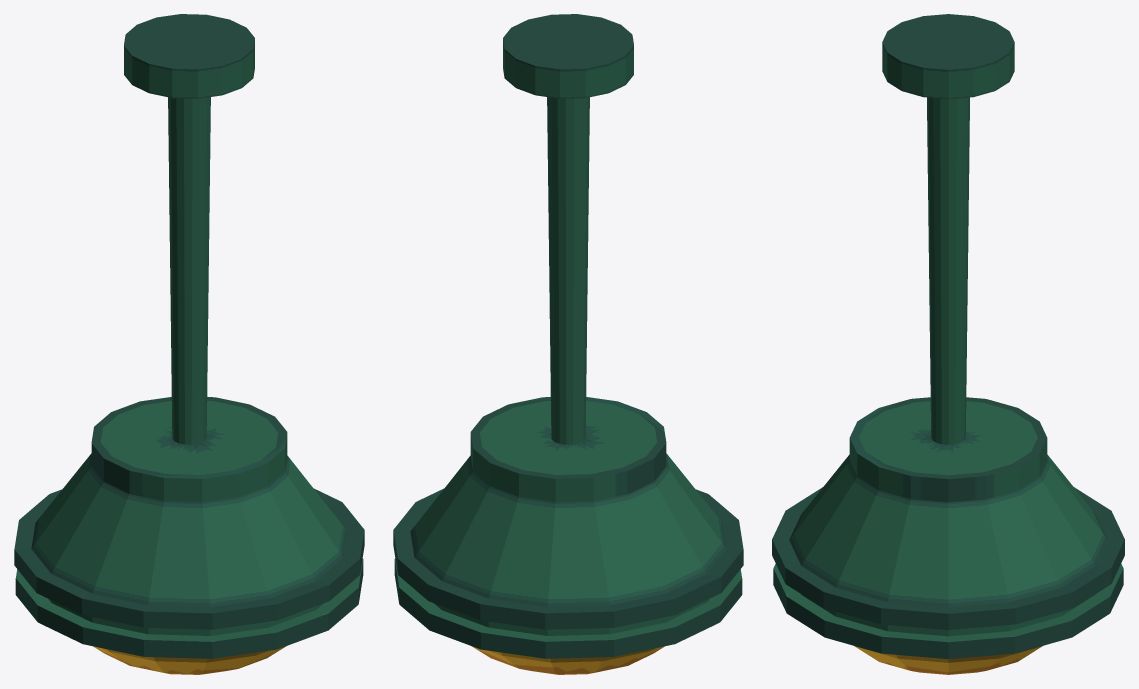
The picture shows the model from 3 angles, left to right: view 1: azimuth 30°, elevation 25°; view 2: azimuth 150°, elevation 25°; view 3: azimuth 270°, elevation 25°; orthographic projection.
Visible parts, largest first — view 1: Cylinder, Cylinder.002, Cylinder.001; view 2: Cylinder, Cylinder.002, Cylinder.001; view 3: Cylinder, Cylinder.002, Cylinder.001.
Part boxes in pixels (x1,y1,x2,y2): Cylinder: (14,97,364,658); Cylinder.002: (124,14,254,98); Cylinder.001: (93,646,285,674); Cylinder: (393,97,743,658); Cylinder.002: (503,14,633,98); Cylinder.001: (472,646,664,674); Cylinder: (772,97,1124,659); Cylinder.002: (882,14,1014,99); Cylinder.001: (854,646,1042,674).
Size of the model in its own units: 147 by 282 by 147.
Materials: 1 (1 with a texture image).
